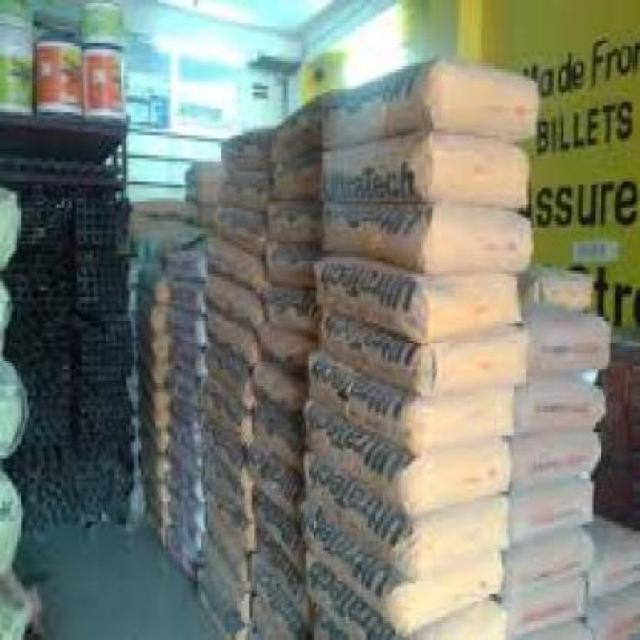gunny_bag: (302, 452, 513, 581), (305, 489, 499, 625), (302, 394, 510, 517), (307, 346, 517, 451), (312, 305, 526, 396), (318, 258, 526, 349), (321, 64, 539, 148), (322, 132, 530, 207), (324, 206, 531, 270), (304, 544, 405, 639), (505, 522, 591, 599), (511, 429, 604, 490), (247, 355, 312, 440), (525, 313, 614, 375), (512, 380, 605, 438), (511, 484, 592, 550), (255, 537, 307, 632), (204, 490, 254, 588), (194, 449, 253, 526), (505, 584, 586, 640), (252, 490, 305, 575), (588, 520, 640, 603), (202, 539, 252, 625), (249, 448, 300, 531), (264, 242, 322, 311), (271, 94, 321, 170), (121, 193, 197, 243), (199, 418, 248, 495), (202, 372, 251, 448), (514, 262, 593, 309), (417, 600, 507, 640), (265, 145, 325, 204), (199, 564, 245, 639), (201, 239, 261, 295), (201, 272, 257, 331), (206, 346, 255, 413), (205, 309, 254, 371), (253, 413, 298, 478), (585, 588, 640, 640), (211, 209, 269, 258), (257, 327, 305, 386), (258, 291, 311, 341), (271, 200, 320, 254), (214, 171, 273, 211), (168, 478, 208, 537), (162, 364, 208, 415), (160, 300, 204, 352), (161, 396, 198, 454), (166, 437, 200, 495), (162, 336, 202, 385), (139, 462, 174, 517), (219, 138, 268, 176), (161, 242, 202, 286), (140, 498, 173, 551), (159, 276, 204, 314), (171, 523, 201, 580), (253, 605, 301, 640), (139, 419, 167, 474), (134, 267, 165, 314), (308, 610, 355, 640), (132, 347, 160, 396), (132, 291, 159, 341), (526, 619, 593, 639), (187, 195, 218, 236), (181, 167, 222, 196), (128, 236, 161, 270), (134, 328, 161, 369), (135, 380, 159, 426)
